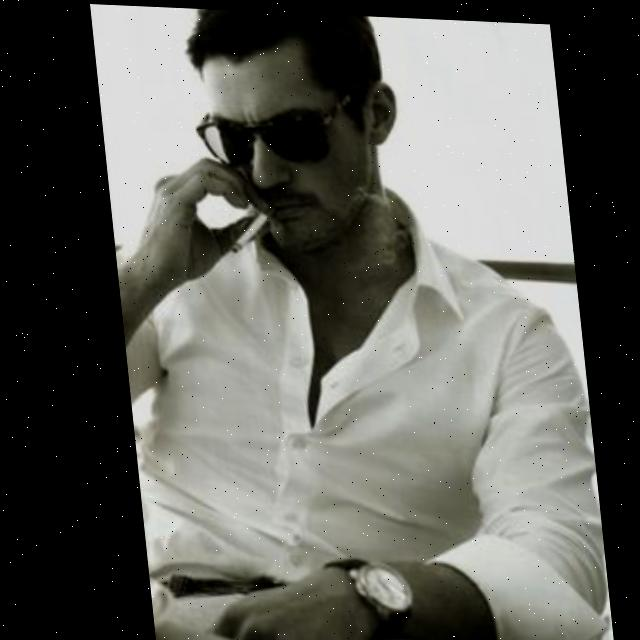cigarette: (224, 207, 268, 251)
